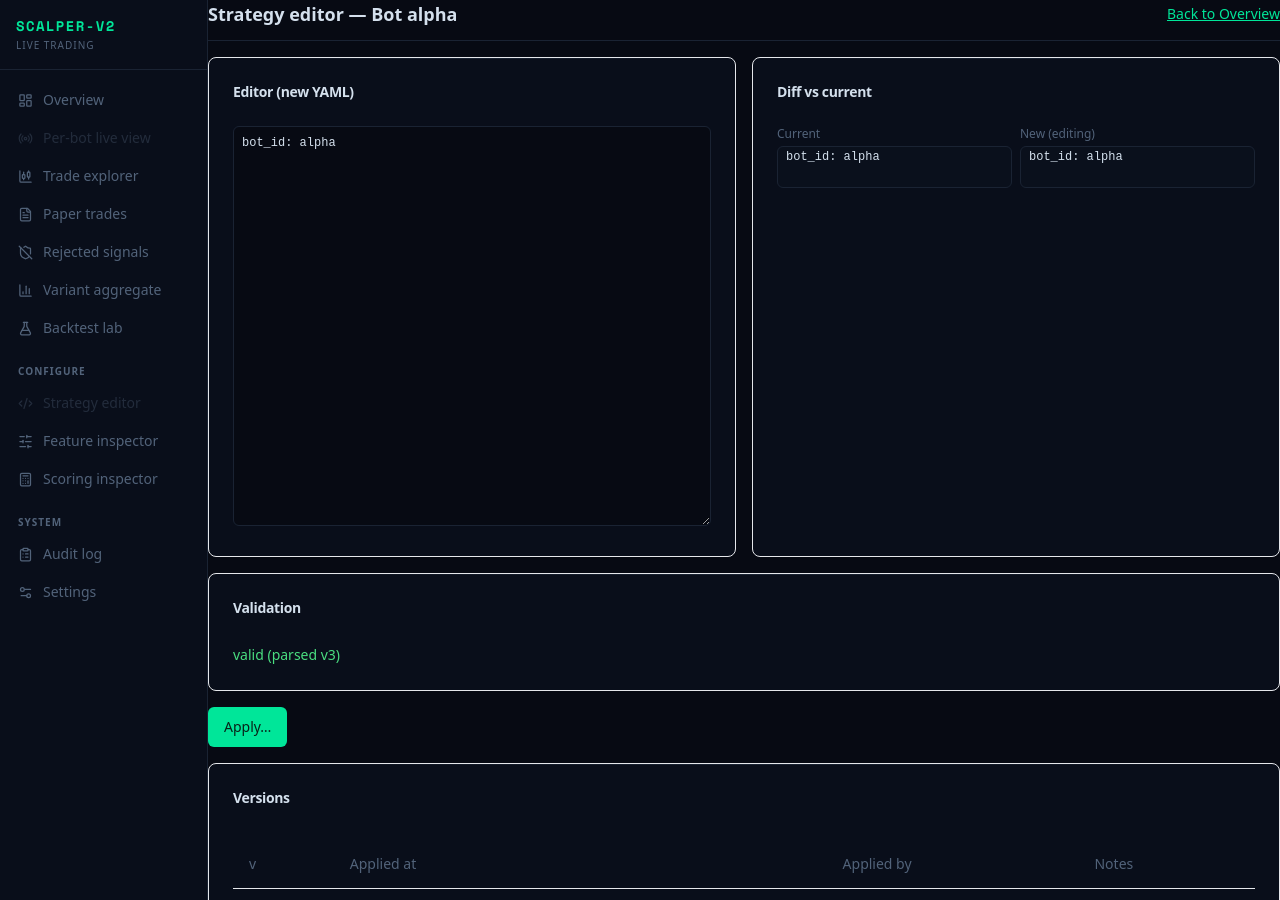
Test case: Strategy apply flow (T-416) › apply 422 error — error.message rendered inline in modal
Click the button with test id "apply-button". click: (248, 727)
box: [208,707,287,747]
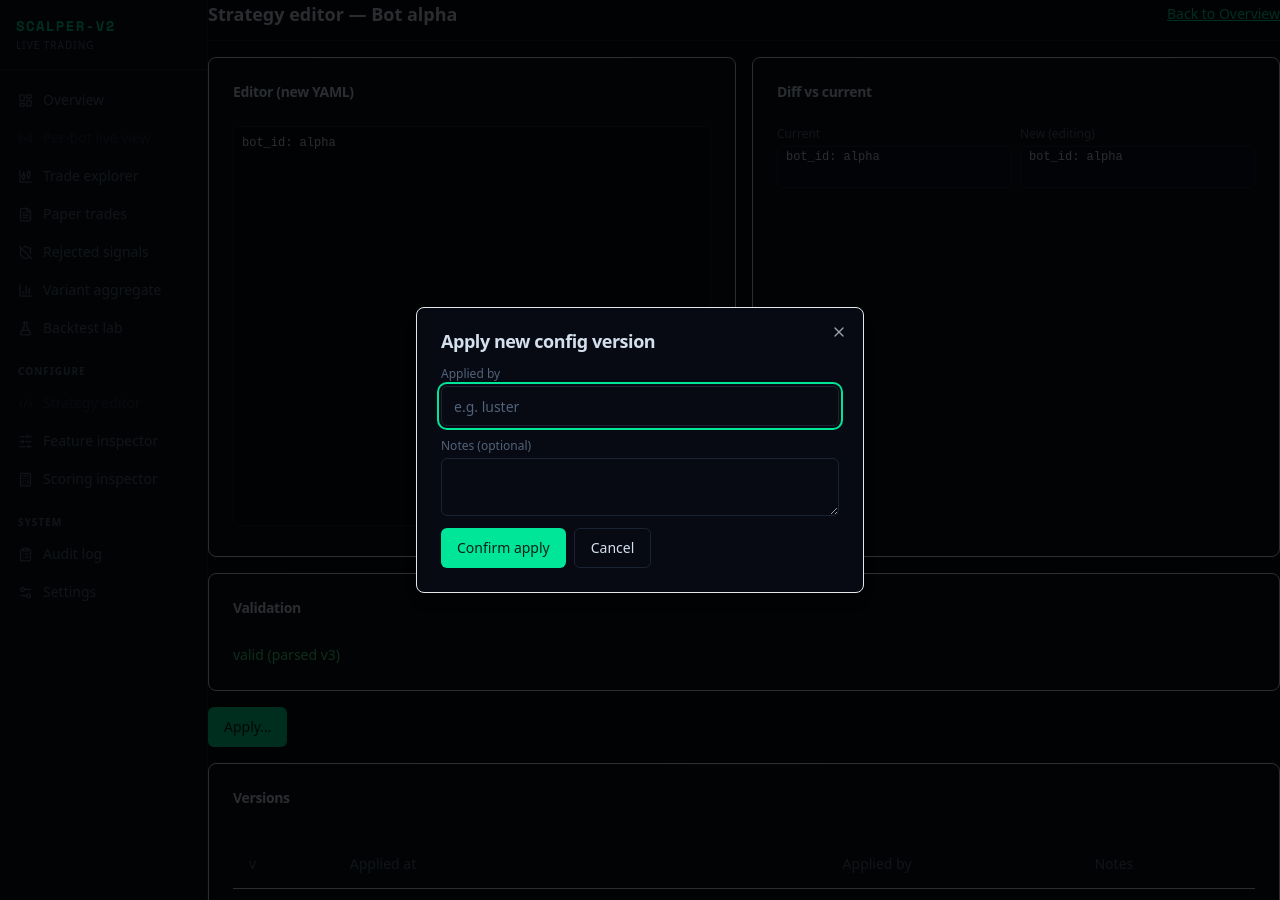
expect the field with test id "applied-by-input" is shown: met
Type "luster" into the field with test id "applied-by-input". click: (640, 406)
box: [441,386,839,426]
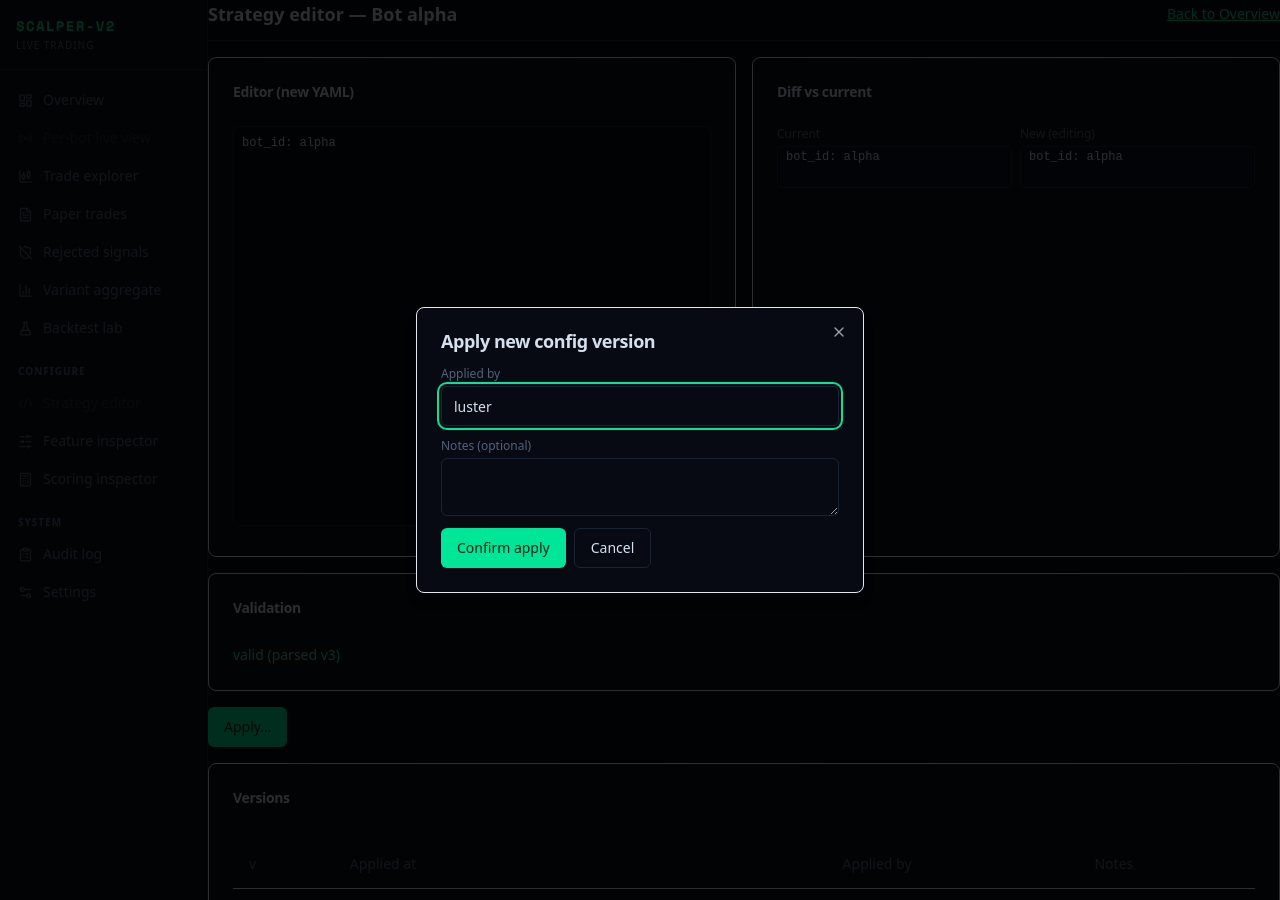
Submit the form with test id "apply-confirm", box [441,366,839,568]
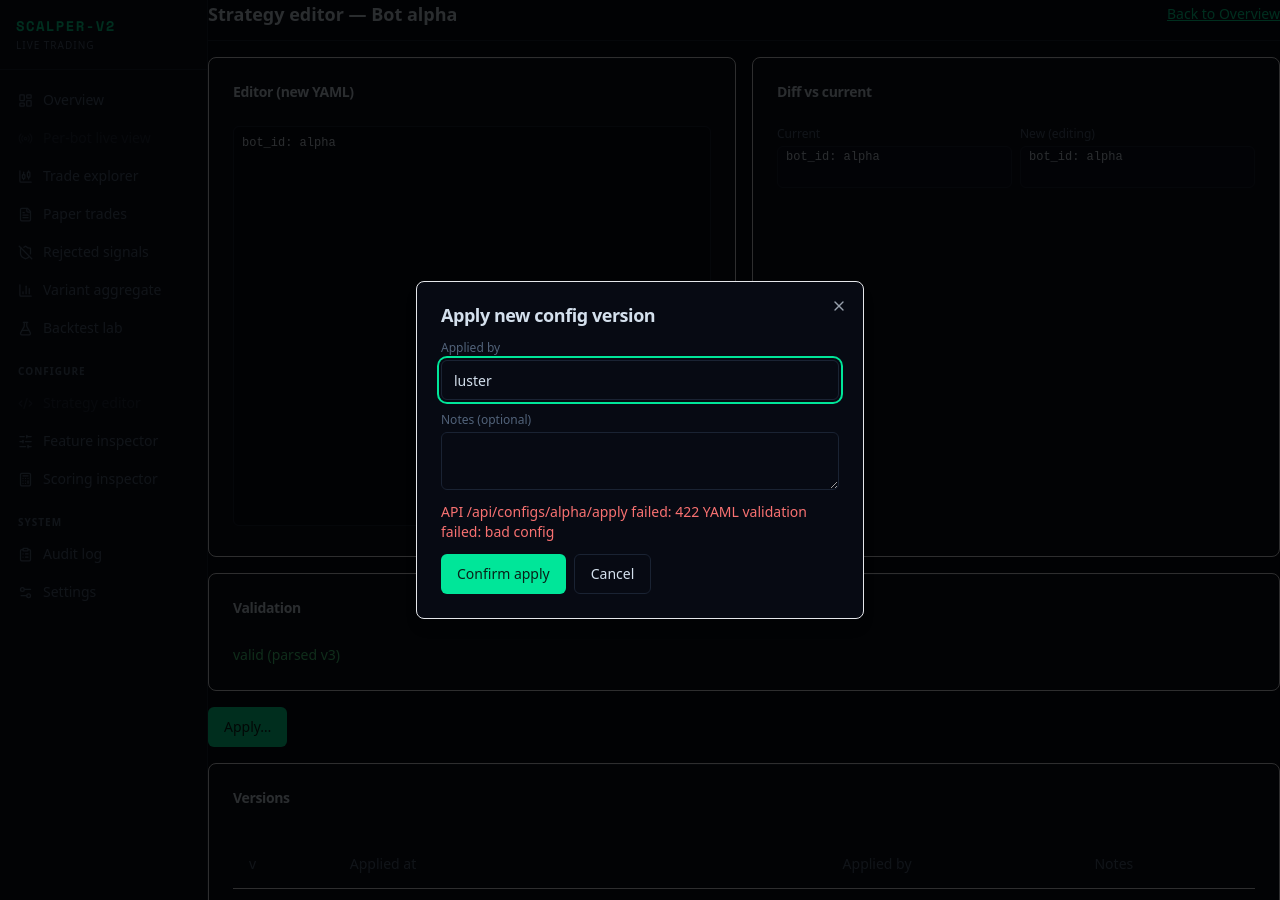
expect the text with test id "apply-error" shows "422": met, box [441,502,807,541]
